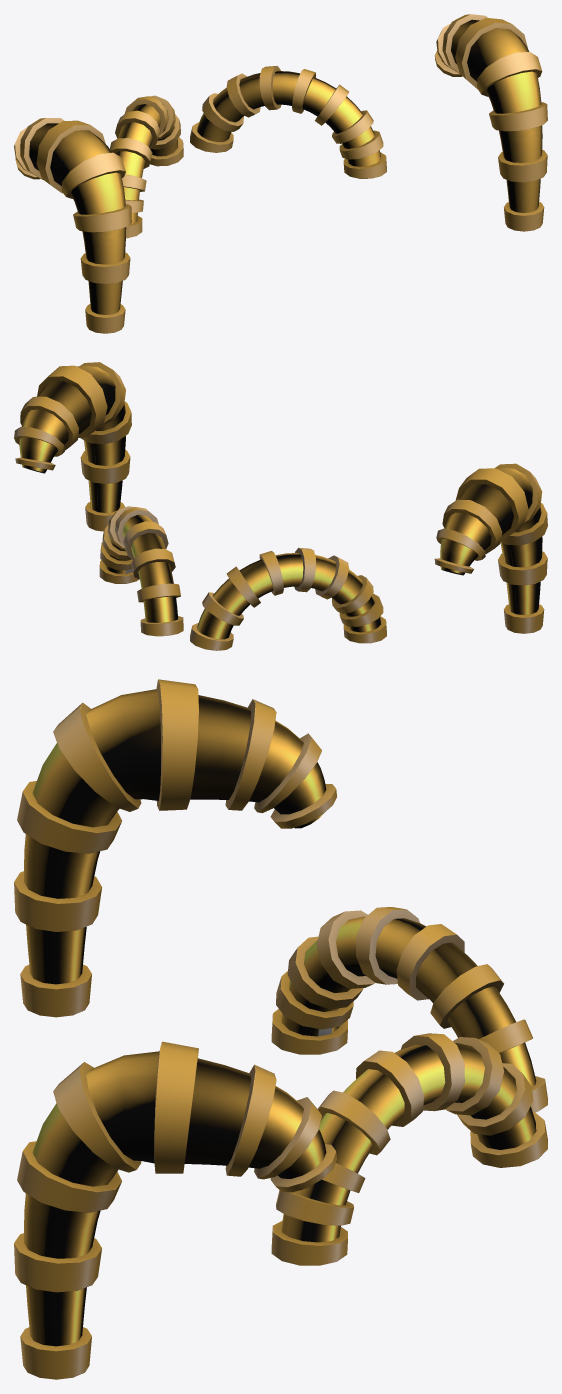
The model's file is fuelSystem3NEW.fbx.
The picture shows the model from 3 angles, top to bottom: view 1: azimuth 30°, elevation 25°; view 2: azimuth 150°, elevation 25°; view 3: azimuth 270°, elevation 25°; orthographic projection. The views are drawn at different scales.
Visible parts, largest first — view 1: fuelSystem3, fuelSystem2.3; view 2: fuelSystem3, fuelSystem2.3; view 3: fuelSystem3, fuelSystem2.3.
Boxes of the visible parts, x1,y1,x2,y2 form: fuelSystem3: [14, 14, 547, 333]; fuelSystem2.3: [109, 65, 386, 238]; fuelSystem3: [14, 362, 547, 633]; fuelSystem2.3: [99, 506, 386, 650]; fuelSystem3: [14, 679, 337, 1379]; fuelSystem2.3: [271, 907, 547, 1265].
Bounding box in the file's own units: 10.53 × 5.68 × 3.74.
